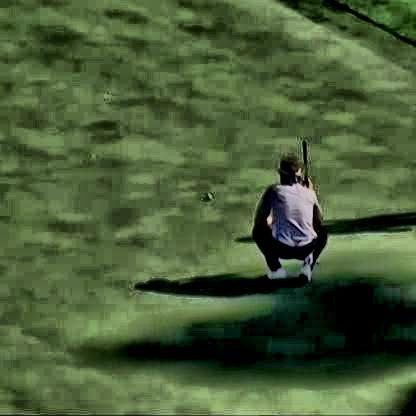golfball: (202, 190, 212, 200)
